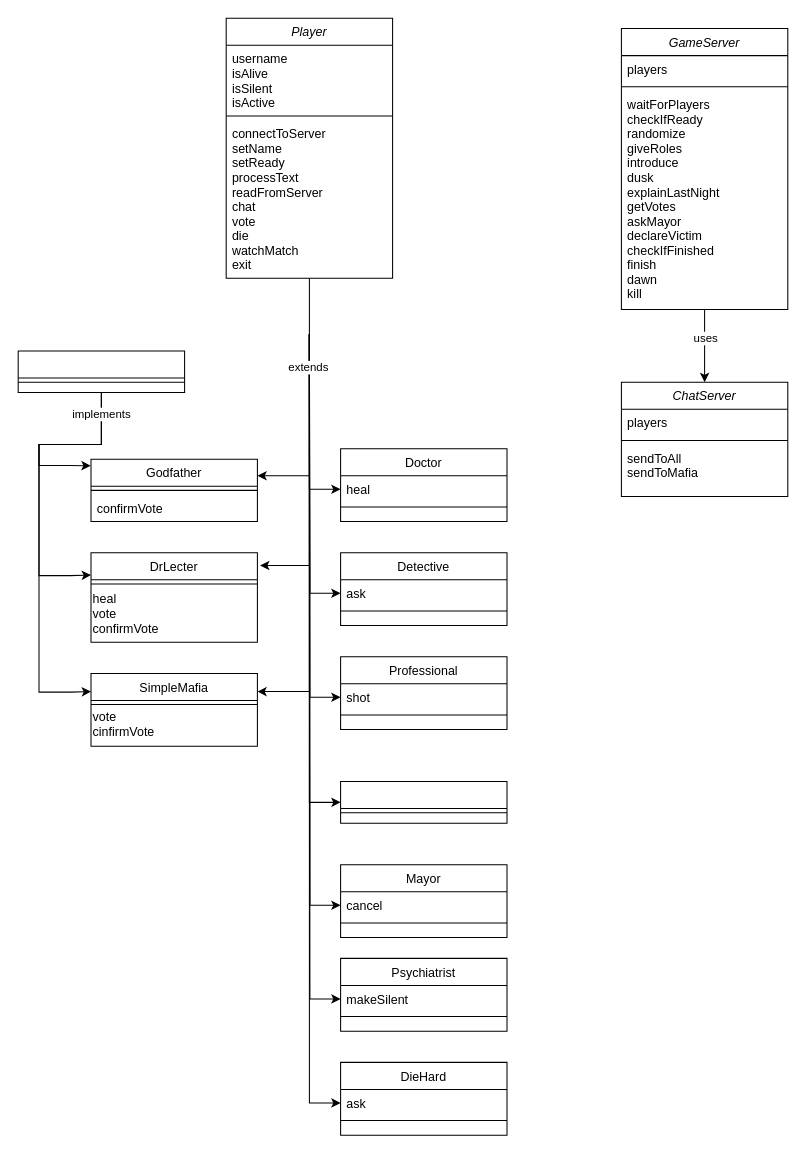
The diagram is 806 pixels wide and 1153 high, and some of its shapes have lost their labels. Each missing label, with the centre of its shape:
"Mafia" goes at [101,371].
"SimpleCitizen" goes at [423,802].
